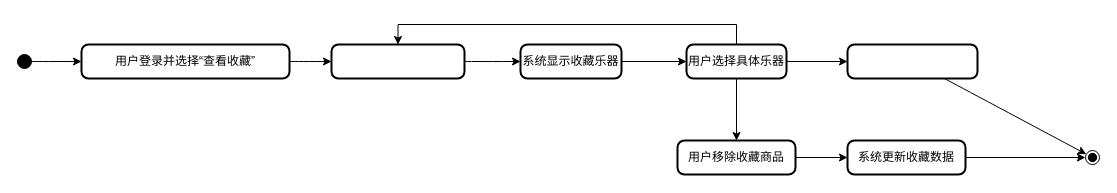
Image size: 1117x193. Some labels were removed from this diagram. Each missing label, with the box of its shape:
系统加载收藏列表: (330, 43, 465, 79)
页面跳转到乐器详情页: (846, 43, 978, 79)
